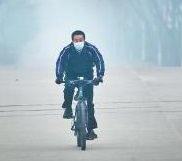person: (53, 29, 107, 152)
